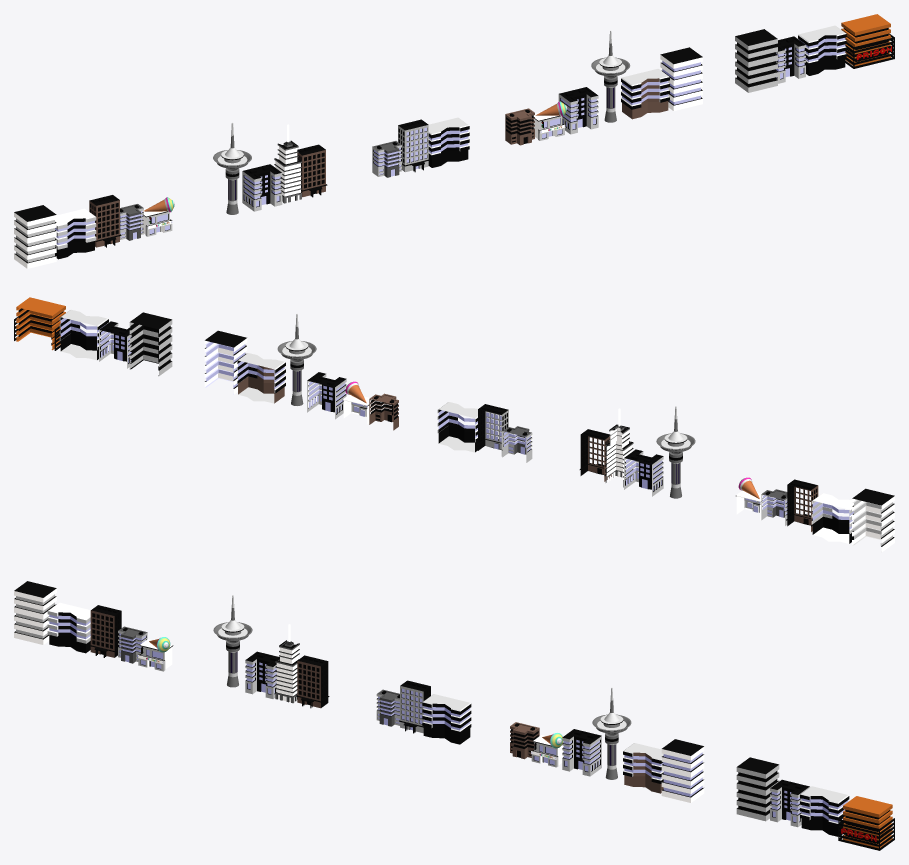
The model's file is Buildings_A.glb.
The picture shows the model from 3 angles, top to bottom: view 1: azimuth 30°, elevation 25°; view 2: azimuth 150°, elevation 25°; view 3: azimuth 330°, elevation 25°; orthographic projection.
Parts seen in each view (by area): view 1: Cube.006, Cube.003, Cube.007, Cube.004, Cube, Cube.005, Cube.001, Cube.002, 5, 5.001, 7.002, 6 (+10 smaller); view 2: Cube.006, Cube.003, Cube, Cube.004, Cube.005, Cube.007, Cube.002, Cube.001, 5, 5.001, 6, 7.002 (+10 smaller); view 3: Cube.007, Cube.004, Cube.006, Cube.003, Cube.001, Cube.002, Cube.005, Cube, 5.001, 7.001, 7, 6 (+10 smaller).
Boxes of the visible parts, bbox=[...] form: Cube.006: bbox=[735, 29, 777, 92]; Cube.003: bbox=[14, 205, 56, 268]; Cube.007: bbox=[841, 14, 894, 68]; Cube.004: bbox=[660, 47, 702, 110]; Cube: bbox=[621, 69, 669, 119]; Cube.005: bbox=[798, 25, 846, 75]; Cube.001: bbox=[428, 117, 469, 167]; Cube.002: bbox=[55, 208, 96, 259]; 5: bbox=[242, 164, 282, 211]; 5.001: bbox=[558, 87, 598, 134]; 7.002: bbox=[398, 119, 429, 172]; 6: bbox=[274, 124, 301, 203]; Cube.006: bbox=[129, 312, 172, 375]; Cube.003: bbox=[852, 488, 894, 552]; Cube: bbox=[237, 353, 285, 403]; Cube.004: bbox=[204, 330, 247, 394]; Cube.005: bbox=[59, 309, 108, 360]; Cube.007: bbox=[14, 297, 65, 350]; Cube.002: bbox=[811, 493, 853, 543]; Cube.001: bbox=[437, 402, 477, 452]; 5: bbox=[624, 449, 663, 496]; 5.001: bbox=[307, 372, 346, 419]; 6: bbox=[605, 408, 633, 487]; 7.002: bbox=[476, 404, 508, 456]; Cube.007: bbox=[838, 796, 894, 850]; Cube.004: bbox=[661, 739, 704, 802]; Cube.006: bbox=[736, 757, 779, 821]; Cube.003: bbox=[14, 581, 56, 644]; Cube.001: bbox=[422, 694, 471, 744]; Cube.002: bbox=[47, 602, 90, 653]; Cube.005: bbox=[800, 786, 849, 836]; Cube: bbox=[623, 743, 663, 793]; 5.001: bbox=[562, 729, 601, 776]; 7.001: bbox=[296, 655, 329, 708]; 7: bbox=[89, 605, 121, 657]; 6: bbox=[275, 624, 299, 703].
Size of the model in its own units: 328 by 32.32 by 12.83.
